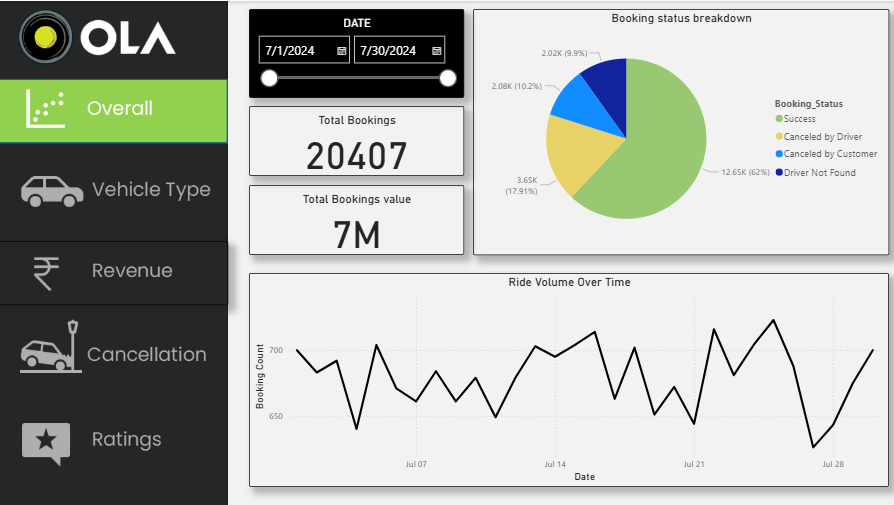

Layout of this report page (visuals, bound fields, positions):
{"tool":"powerbi","page":{"name":"Overall","canvas":[1280,720],"ordinal":0},"visuals":[{"type":"actionButton","box":[0,222.5,324.6,90.7],"z":0},{"type":"actionButton","box":[0,340.2,324.6,90.7],"z":1000},{"type":"actionButton","box":[0,446.5,324.6,90.7],"z":2000},{"type":"actionButton","box":[0,579.7,324.6,90.7],"z":3000},{"type":"lineChart","title":"Ride Volume Over Time","fields":{"Category":["July.Date"],"Y":["CountNonNull(July.Booking_ID)"]},"box":[354.3,385.5,907.1,303.3],"z":4000},{"type":"pieChart","title":"Booking status breakdown","fields":{"Category":["July.Booking_Status"],"Y":["CountNonNull(July.Booking_Status)"]},"box":[671.8,11.3,589.6,348.7],"z":5000},{"type":"slicer","title":"DATE","fields":{"Values":["July.Date"]},"box":[354.3,11.3,304.7,126.1],"z":6000},{"type":"card","title":"Total Bookings","fields":{"Values":["CountNonNull(July.Booking_ID)"]},"box":[354.3,148.8,304.7,99.2],"z":7000},{"type":"card","title":"Total Bookings value","fields":{"Values":["Sum(July.Booking_Value)"]},"box":[354.3,260.8,304.7,99.2],"z":8000}]}

Visuals, with their boxes in screenshot pixels (x1, y1, x2, y2), scaled from the page's 1280x720 canvas onto the 894x505 screenshot:
actionButton: 0:156:227:220
actionButton: 0:239:227:302
actionButton: 0:313:227:377
actionButton: 0:407:227:470
"Ride Volume Over Time" lineChart: 247:270:881:483
"Booking status breakdown" pieChart: 469:8:881:252
"DATE" slicer: 247:8:460:96
"Total Bookings" card: 247:104:460:174
"Total Bookings value" card: 247:183:460:252
